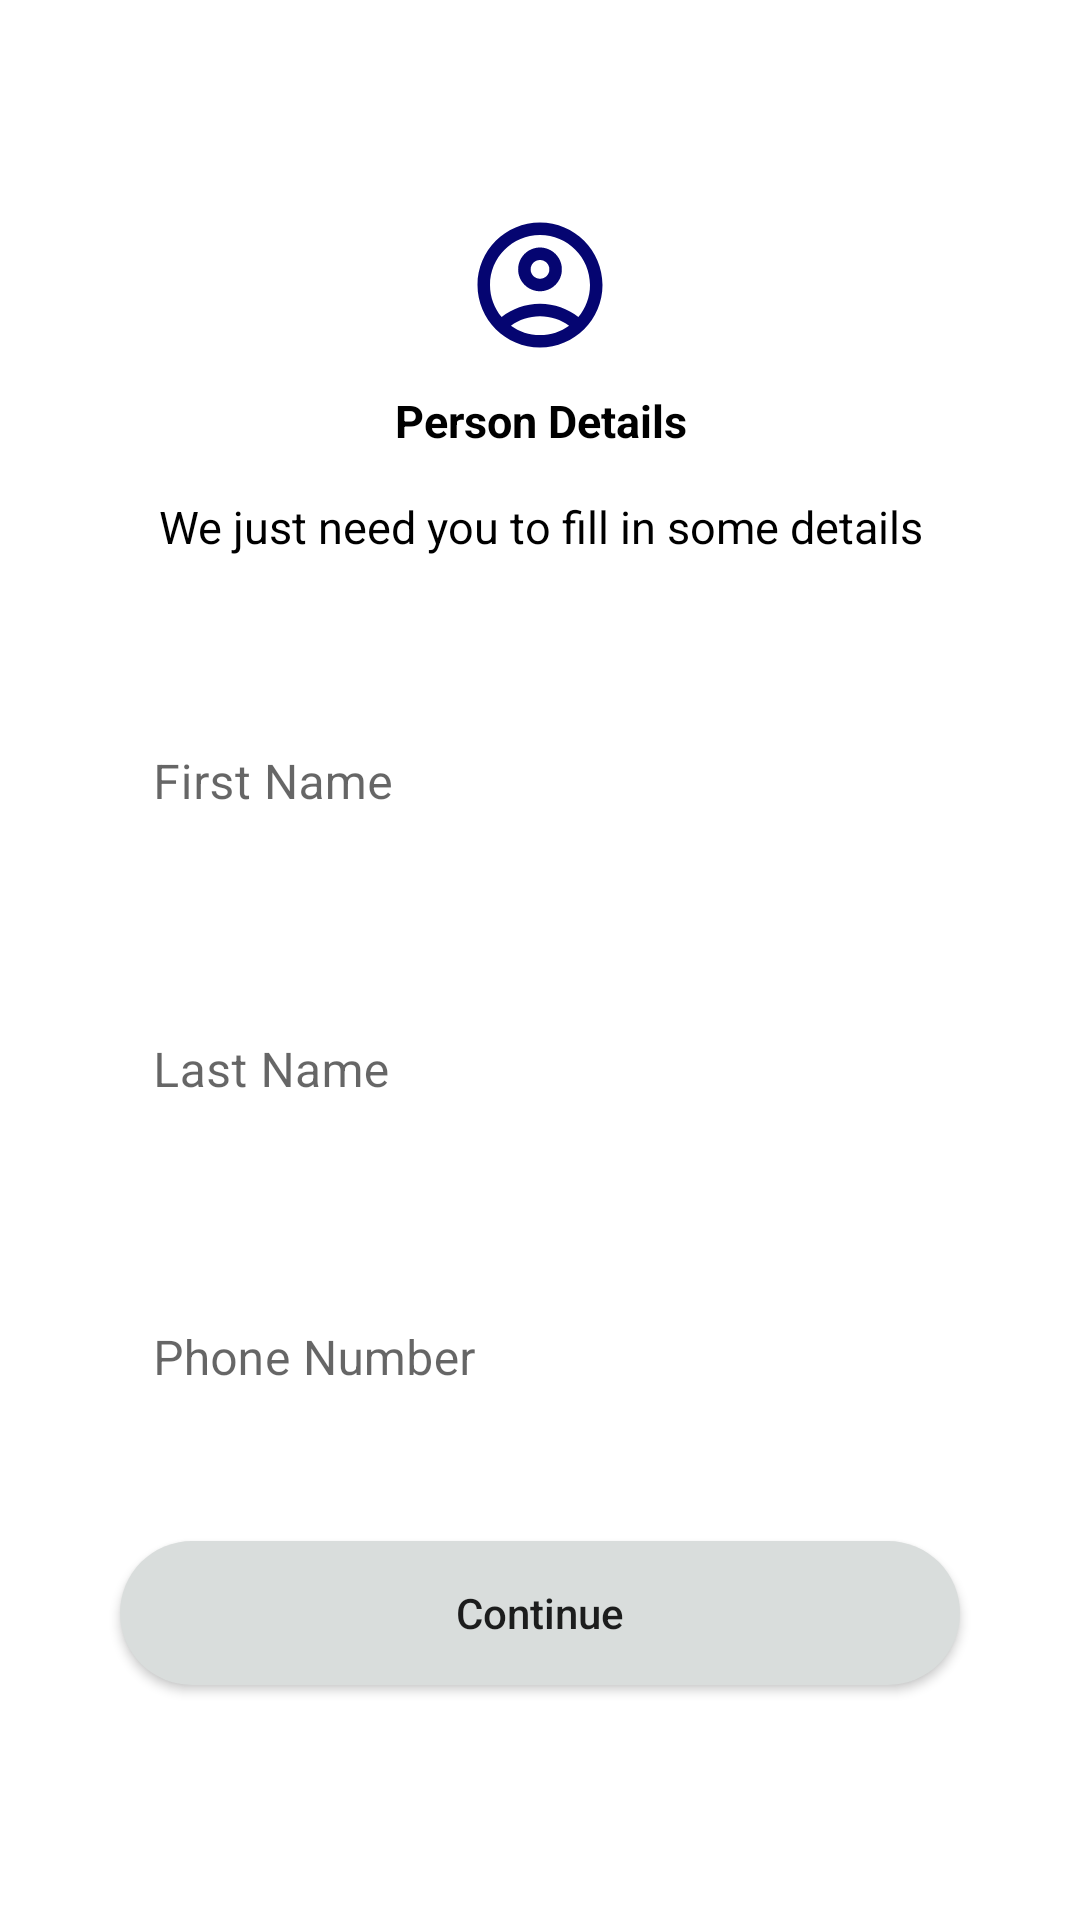

Point at icon controls on the screen. Image size 1080 × 1920, points as [x,y].
account circle: [540,285]
